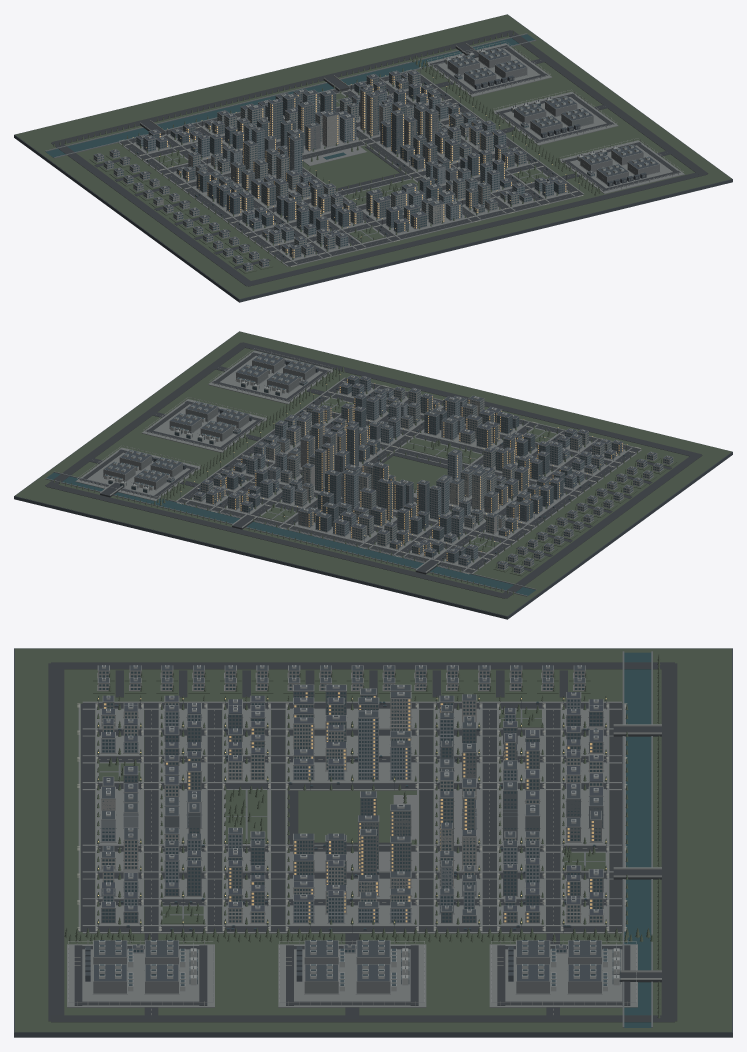
Rendered from city-exterior.glb.
3 views of the same model, one above another, from view 1: azimuth 30°, elevation 25°; view 2: azimuth 150°, elevation 25°; view 3: azimuth 270°, elevation 25° (orthographic). The views are drawn at different scales.
Parts seen in each view (by area): view 1: city_0_0_0, city_0_2_0, city_0_-3_0, city_0_-2_0, city_-3_0_0, city_-2_0_0, city_-1_0_0, city_2_0_0, city_0_-1_0, city_-2_-1_0, city_2_1_0, city_2_-2_0 (+20 smaller); view 2: city_0_0_0, city_0_2_0, city_0_1_0, city_-2_0_0, city_-3_0_0, city_0_-2_0, city_-1_1_0, city_-1_0_0, city_1_0_0, city_2_0_0, city_2_-2_0, city_0_-3_0 (+19 smaller); view 3: city_0_0_0, city_0_2_0, city_0_1_0, city_0_-2_0, city_1_0_0, city_0_-3_0, city_2_0_0, city_-3_0_0, city_0_-1_0, city_-1_0_0, city_-2_0_0, city_2_-2_0 (+23 smaller).
Boxes of the visible parts, x1,y1,x2,y2 form: city_0_0_0: (14,14,732,302); city_0_2_0: (45,30,536,158); city_0_-3_0: (248,172,707,286); city_0_-2_0: (245,162,557,251); city_-3_0_0: (51,140,296,286); city_-2_0_0: (161,123,365,257); city_-1_0_0: (237,101,400,241); city_2_0_0: (405,70,618,196); city_0_-1_0: (226,134,521,222); city_-2_-1_0: (216,176,321,231); city_2_1_0: (422,43,552,104); city_2_-2_0: (528,138,684,194); city_0_0_0: (14,331,732,619); city_0_2_0: (45,471,536,598); city_0_1_0: (197,469,514,559); city_-2_0_0: (394,430,597,562); city_-3_0_0: (463,447,702,598); city_0_-2_0: (303,388,620,481); city_-1_1_0: (332,478,431,550); city_-1_0_0: (360,422,538,548); city_1_0_0: (210,386,408,518); city_2_0_0: (142,377,346,503); city_2_-2_0: (208,350,339,411); city_0_-3_0: (242,342,701,456); city_0_0_0: (14,648,732,1037); city_0_2_0: (605,651,677,1027); city_0_1_0: (477,703,607,931); city_0_-2_0: (97,703,226,931); city_1_0_0: (82,829,621,924); city_0_-3_0: (48,663,99,1021); city_2_0_0: (82,919,621,1018); city_-3_0_0: (51,662,674,709); city_0_-1_0: (224,703,347,931); city_-1_0_0: (82,711,621,815); city_-2_0_0: (82,684,621,763); city_2_-2_0: (67,919,225,1018).
Size of the model in its own units: 86 by 7.36 by 68.
